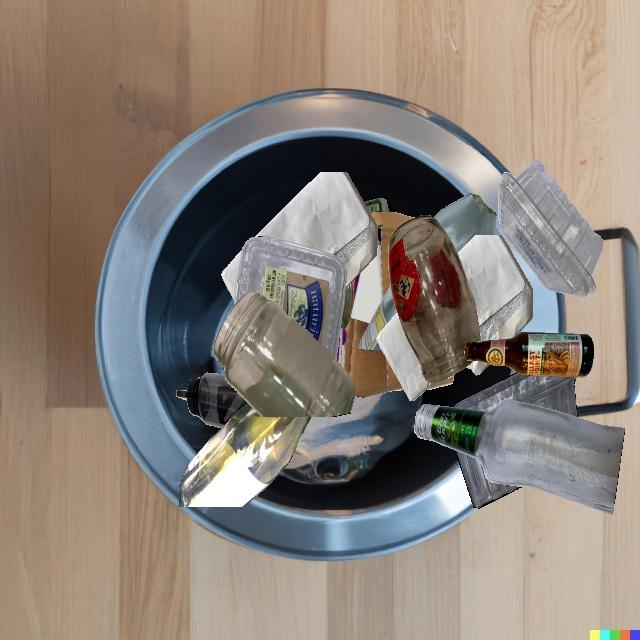cardboard: (336, 212, 415, 398)
glass: (414, 399, 625, 515), (213, 291, 355, 417), (389, 215, 481, 384), (179, 402, 311, 507), (464, 332, 594, 377), (433, 193, 496, 253), (358, 285, 397, 351), (340, 282, 353, 329)
paper: (255, 172, 378, 289), (457, 235, 533, 341)
plastic: (498, 159, 603, 298), (234, 236, 347, 361), (452, 372, 577, 417), (454, 450, 522, 508), (176, 373, 247, 428), (364, 198, 389, 212)
